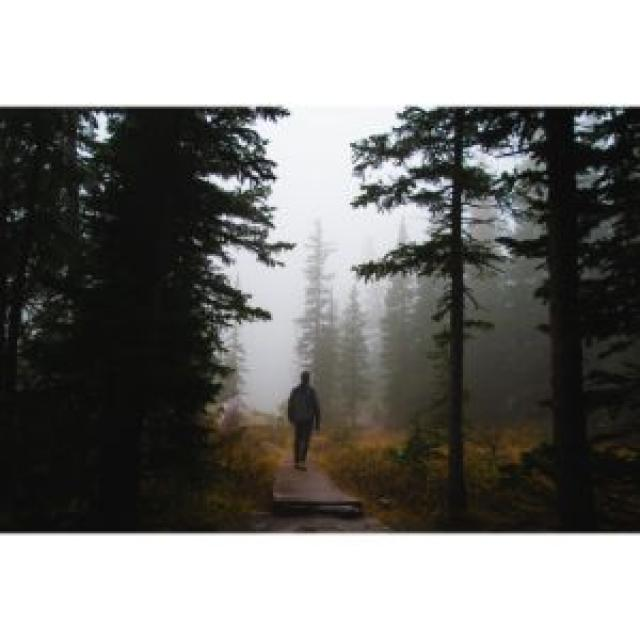nonfall: (278, 359, 331, 477)
